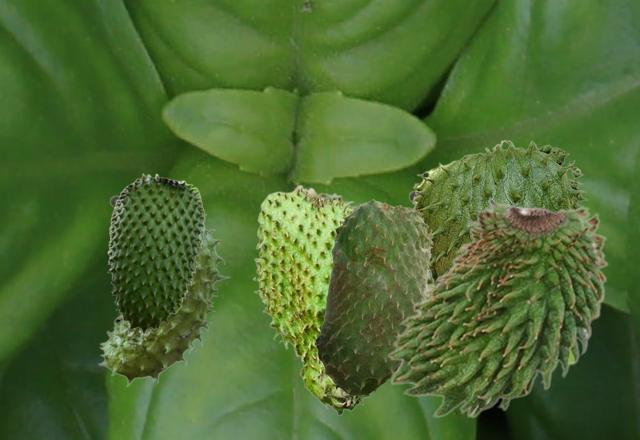guyabano: (386, 195, 608, 417), (252, 184, 371, 415), (97, 195, 229, 386), (412, 139, 587, 281), (314, 198, 433, 398), (107, 173, 204, 333)
